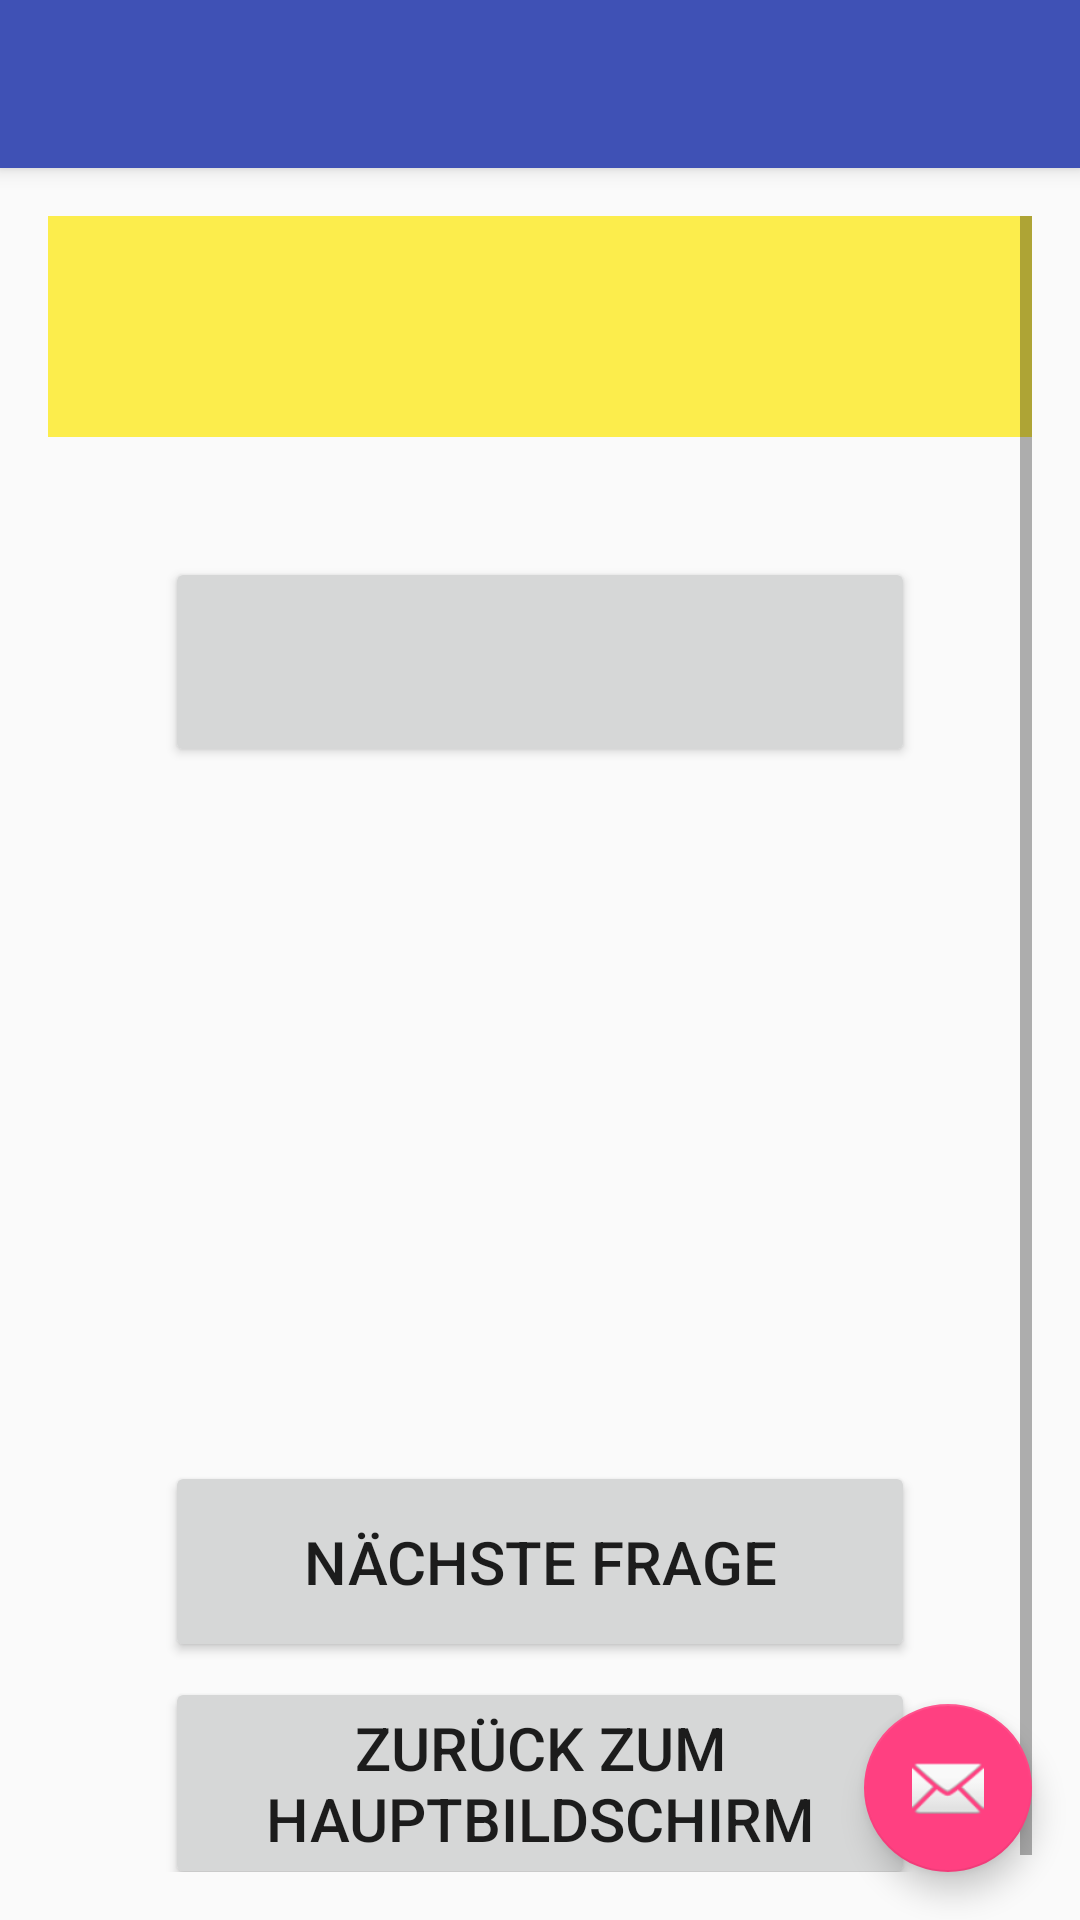

Screen size 1080px x 1920px. Icon name, then its center in pixels as [x,y]:
email: [948,1788]
